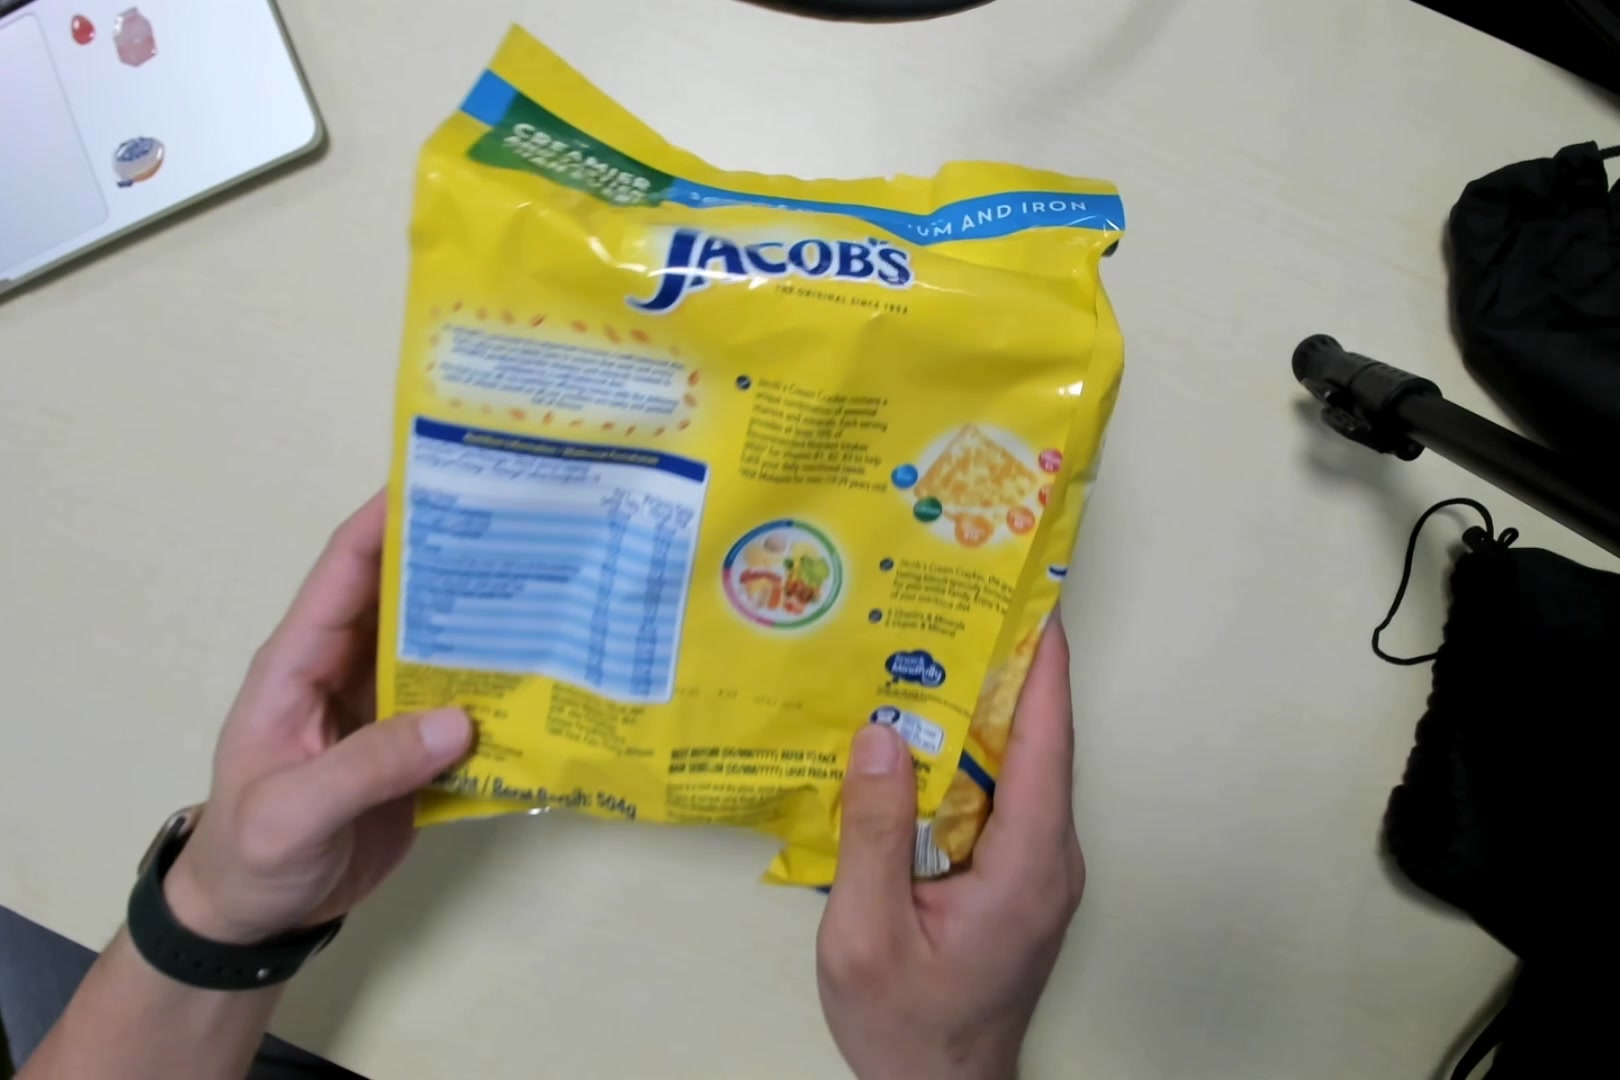BiscuitCrackersCookies_500-599g_Halal_NonHealthy: (372, 55, 1098, 879)
